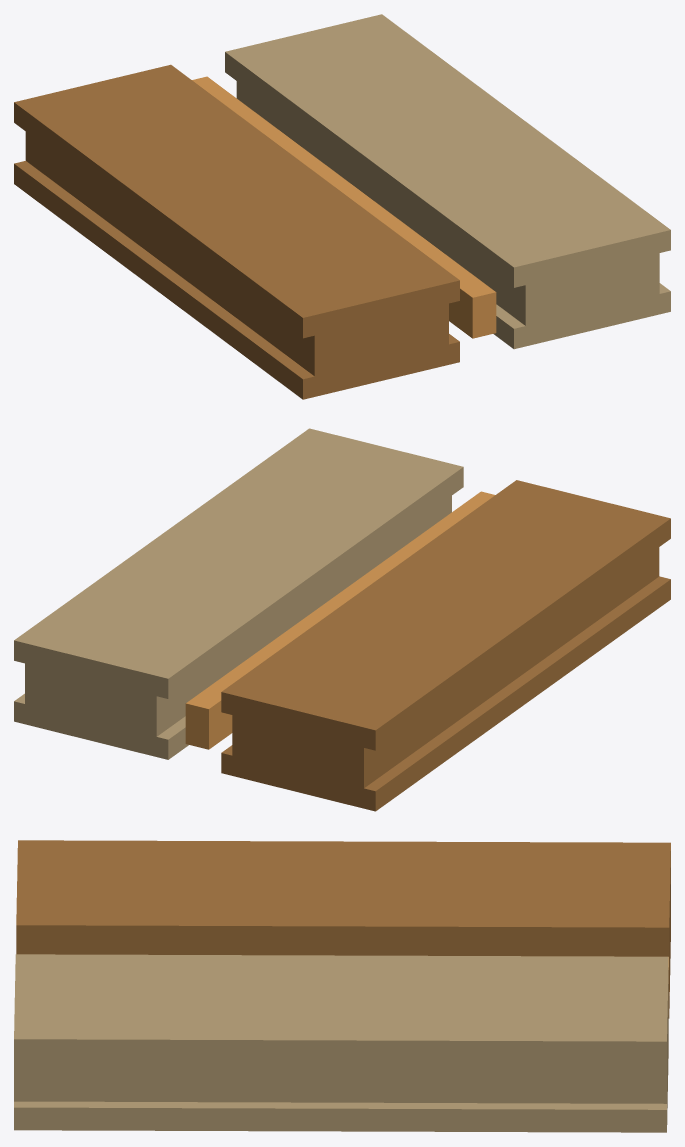
The picture shows the model from 3 angles, top to bottom: view 1: azimuth 30°, elevation 25°; view 2: azimuth 150°, elevation 25°; view 3: azimuth 270°, elevation 25°; orthographic projection. The views are drawn at different scales.
Size of the model in its own units: 0.4017 by 0.0847 by 0.5542.
